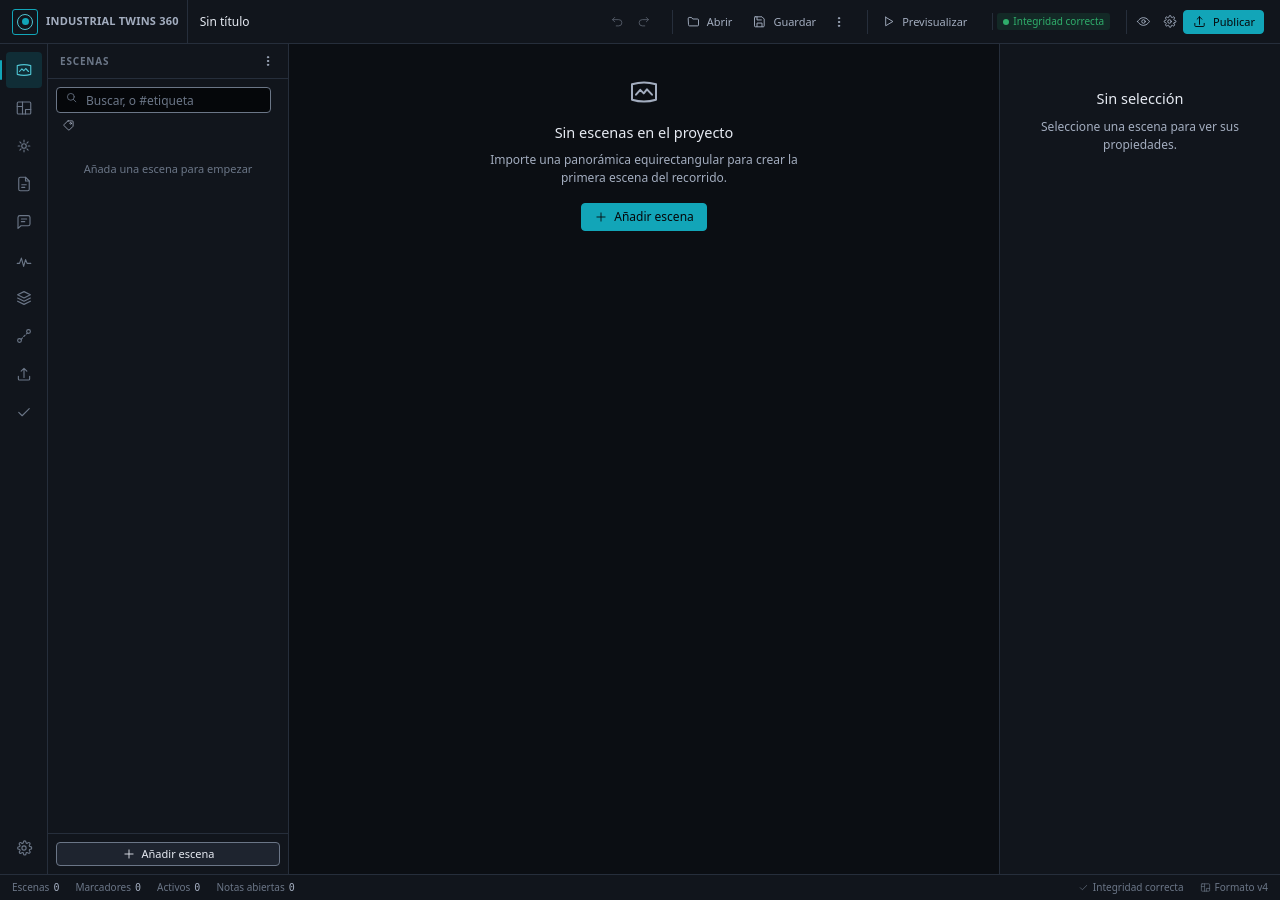
Test case: guardar una copia (Y03) › TEST-PLC-005 después de guardar la copia se trabaja sobre ella
The width and height of the screenshot is (1280, 900).
Click the button named "Más opciones de archivo". click: coordinates (839, 22)
box: 827,10 -> 851,34
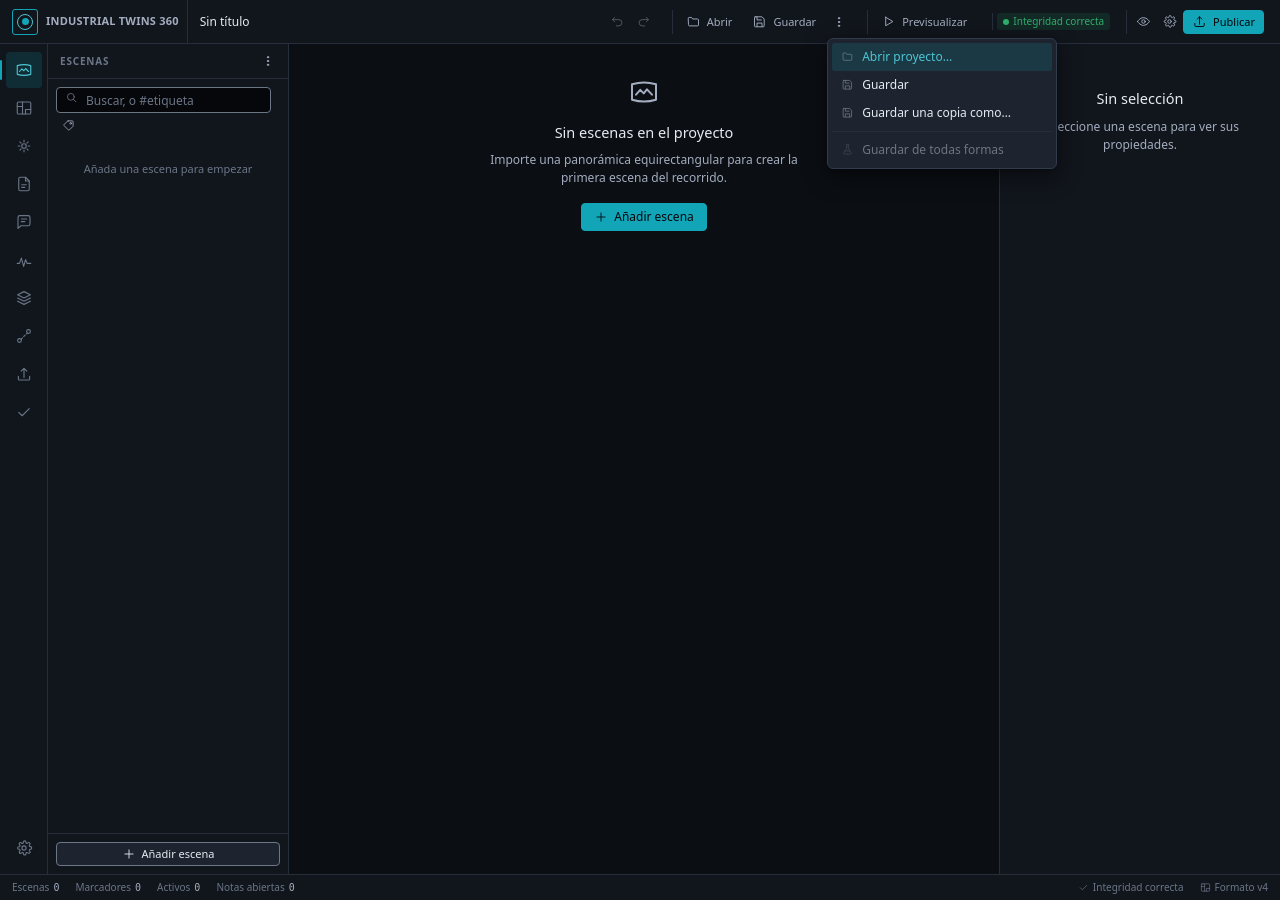
Click the menu item "Guardar una copia como…". click: coordinates (942, 112)
box: 832,98 -> 1052,126
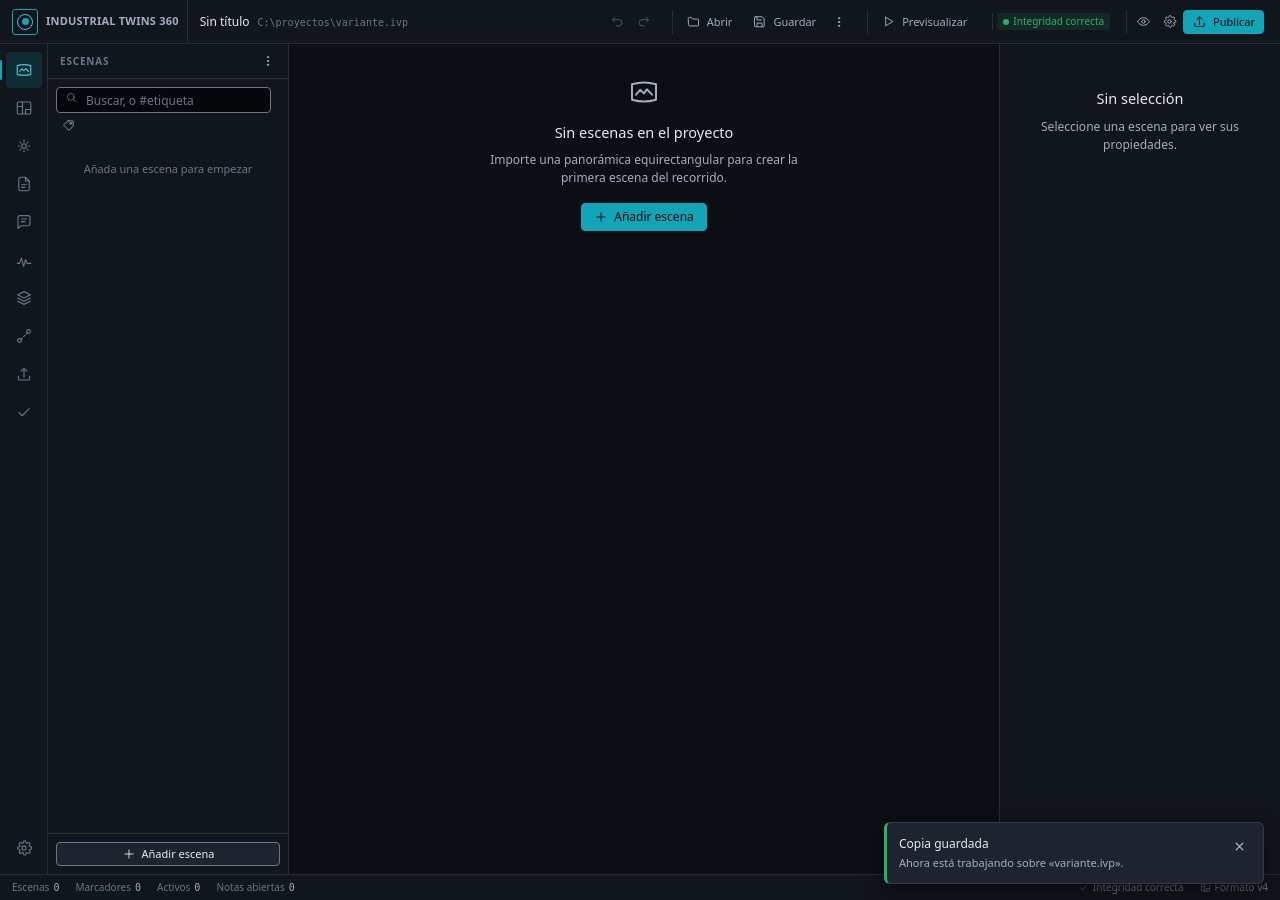
Now the text with class "commandbar__path" reads "C:\\proyectos\\variante.ivp", box 258,16 -> 408,28
